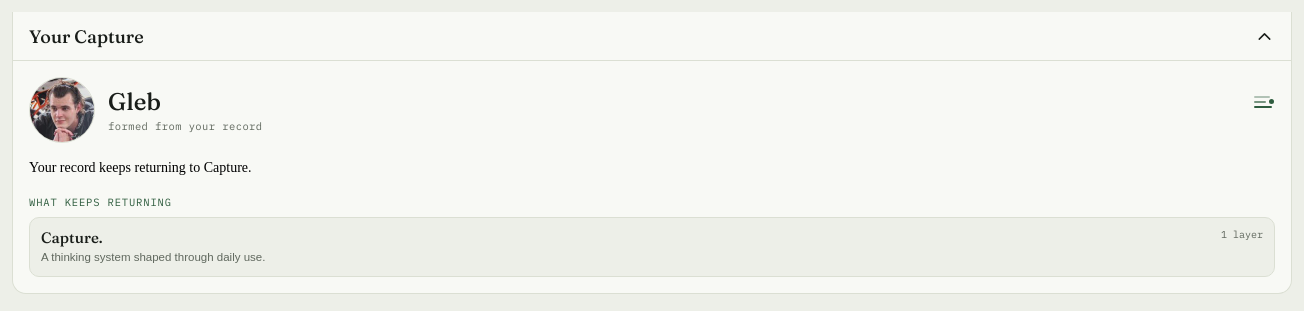
Test: CaptureProfile › keeps the title visible while the chevron hides the profile
Expected: the field showing "Gleb" is shown, [108, 87, 1246, 117]
Click the button with aria-label "Hide your Capture profile" at (86, 36), box [13, 12, 1291, 60]
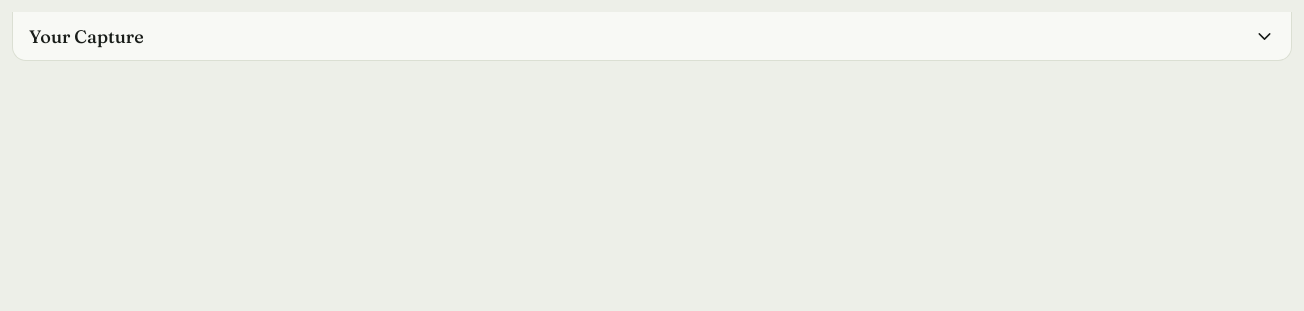
Expected: the field showing "Gleb" is not shown
Result: the button with aria-label "Show your Capture profile" is shown at [13, 12, 1291, 60]
